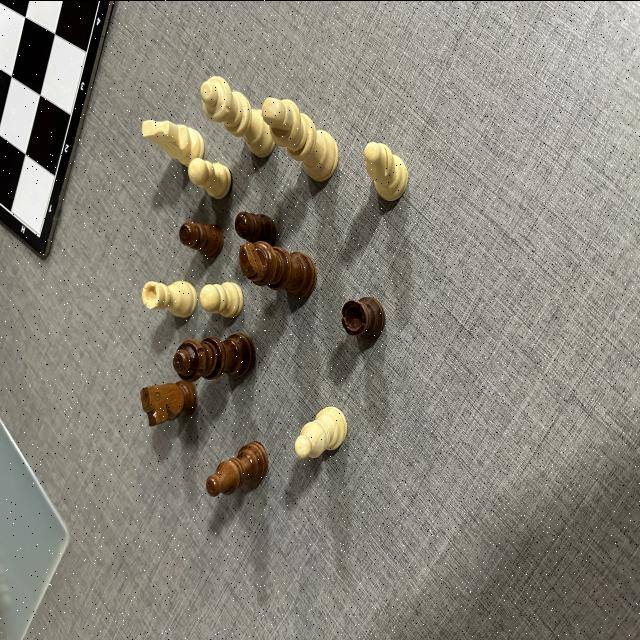Black-Bishop: (206, 442, 268, 494)
Black-King: (238, 240, 316, 300)
Black-Knight: (139, 380, 197, 426)
Black-Pawn: (180, 220, 222, 254), (234, 212, 278, 244)
Black-Queen: (174, 332, 255, 380)
Black-Rook: (340, 296, 384, 339)
White-Bishop: (294, 404, 346, 457), (364, 141, 408, 201)
White-King: (262, 96, 338, 180)
White-Knight: (142, 120, 204, 166)
White-Pawn: (188, 158, 232, 198), (201, 282, 244, 316)
White-Queen: (201, 76, 275, 156)
White-Rook: (142, 280, 196, 317)
